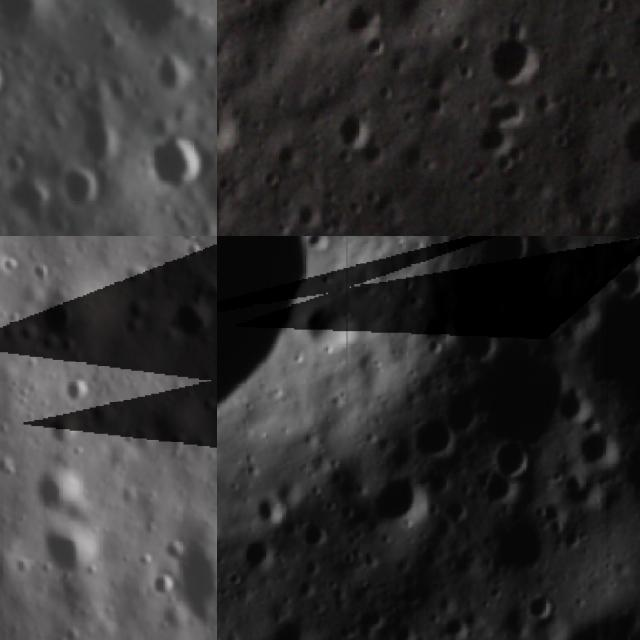crater: (217, 236, 472, 566), (113, 117, 211, 213), (87, 0, 217, 58), (487, 501, 558, 594), (459, 92, 531, 172), (42, 146, 118, 221), (472, 21, 550, 93), (364, 473, 434, 537), (469, 236, 548, 282), (34, 526, 102, 578), (141, 44, 199, 103), (406, 410, 461, 468), (436, 378, 492, 434), (328, 105, 373, 160), (570, 425, 623, 471), (332, 0, 383, 46), (613, 93, 640, 179), (35, 465, 78, 519), (485, 433, 531, 479), (217, 84, 244, 161), (0, 39, 22, 119), (604, 253, 640, 298), (171, 299, 211, 339), (38, 301, 74, 343), (521, 587, 561, 621), (62, 378, 99, 412), (416, 88, 446, 124), (439, 27, 472, 59), (257, 624, 320, 640), (305, 224, 350, 236)
